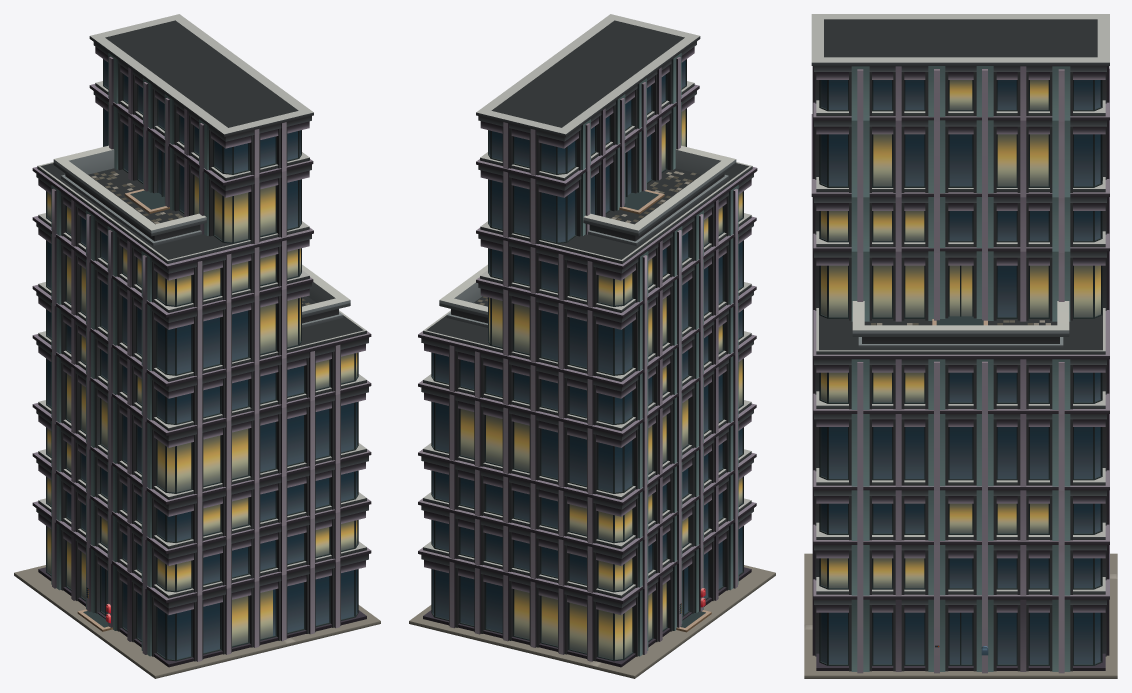
Rendered from Building_21C.fbx.
The picture shows the model from 3 angles, left to right: view 1: azimuth 30°, elevation 25°; view 2: azimuth 150°, elevation 25°; view 3: azimuth 270°, elevation 25°; orthographic projection. The views are drawn at different scales.
Visible parts, largest first — view 1: Building_21C, Window_Lights_21C; view 2: Building_21C, Window_Lights_21C; view 3: Building_21C, Window_Lights_21C.
Boxes of the visible parts, x1=… form: Building_21C: x1=14, y1=14, x2=380, y2=678; Window_Lights_21C: x1=47, y1=175, x2=357, y2=645; Building_21C: x1=409, y1=14, x2=775, y2=678; Window_Lights_21C: x1=460, y1=109, x2=742, y2=659; Building_21C: x1=804, y1=14, x2=1117, y2=678; Window_Lights_21C: x1=821, y1=80, x2=1100, y2=587.
Bounding box in the file's own units: 2400 × 5330 × 2600.
